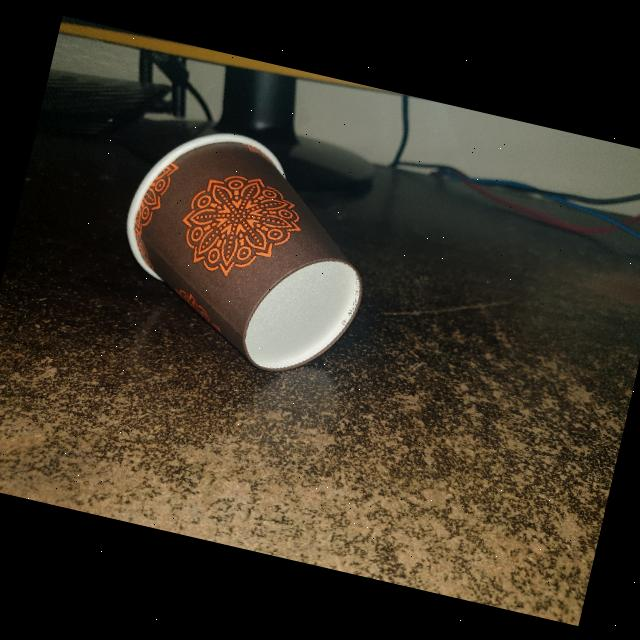trash: (94, 106, 400, 394)
